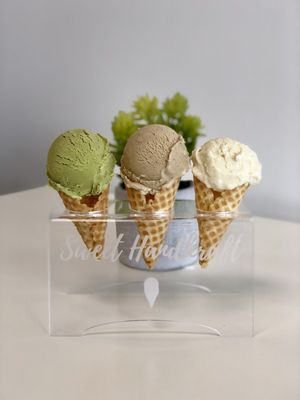soup: (112, 124, 198, 271), (189, 135, 261, 268)
